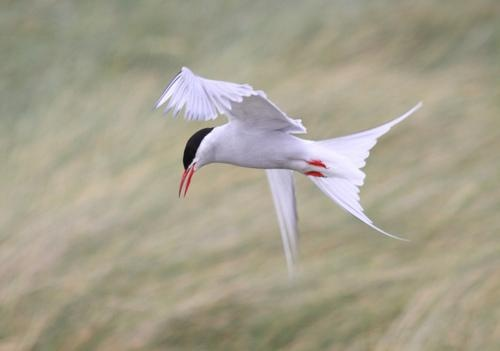bird: (151, 65, 433, 274)
